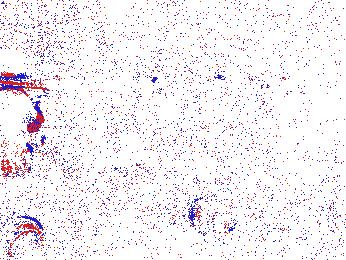flame jellyfish: (1, 86, 44, 179), (186, 192, 239, 249), (1, 215, 50, 260)
